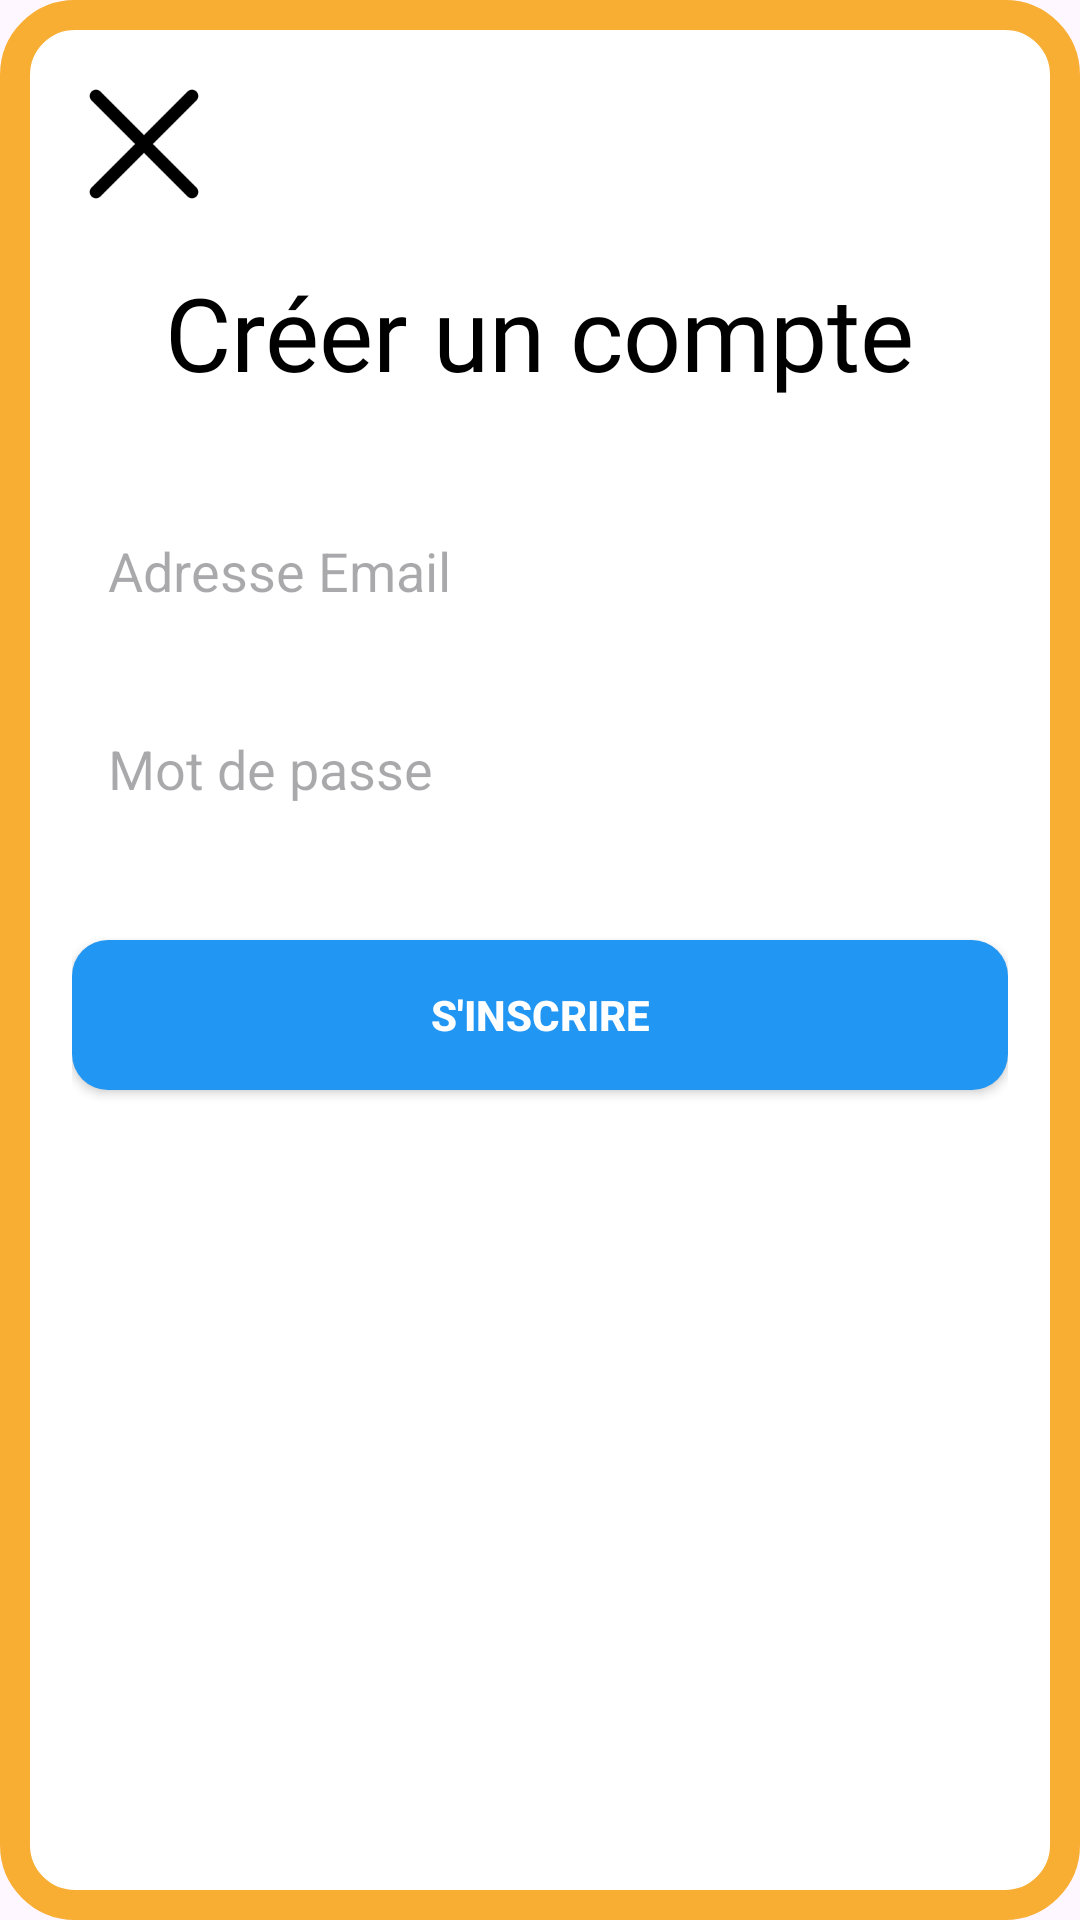

Icons on this 1080px×1920px Android screen, each with the point to tap as point (x, y):
cross: point (144, 144)
